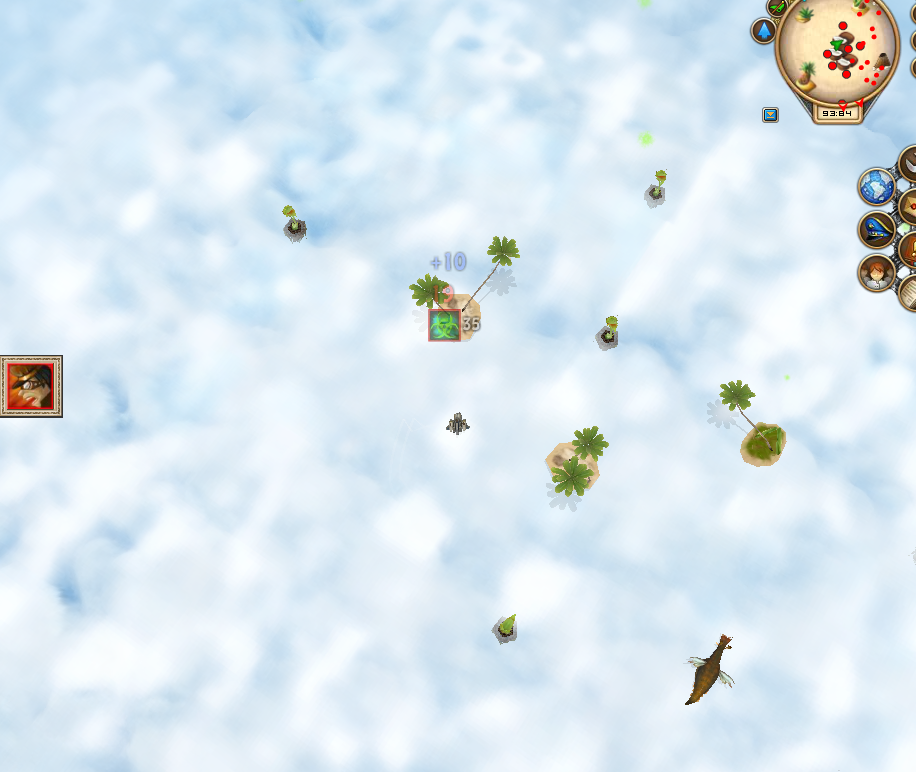palm: (410, 237, 523, 348), (712, 374, 794, 475), (536, 425, 620, 502)
